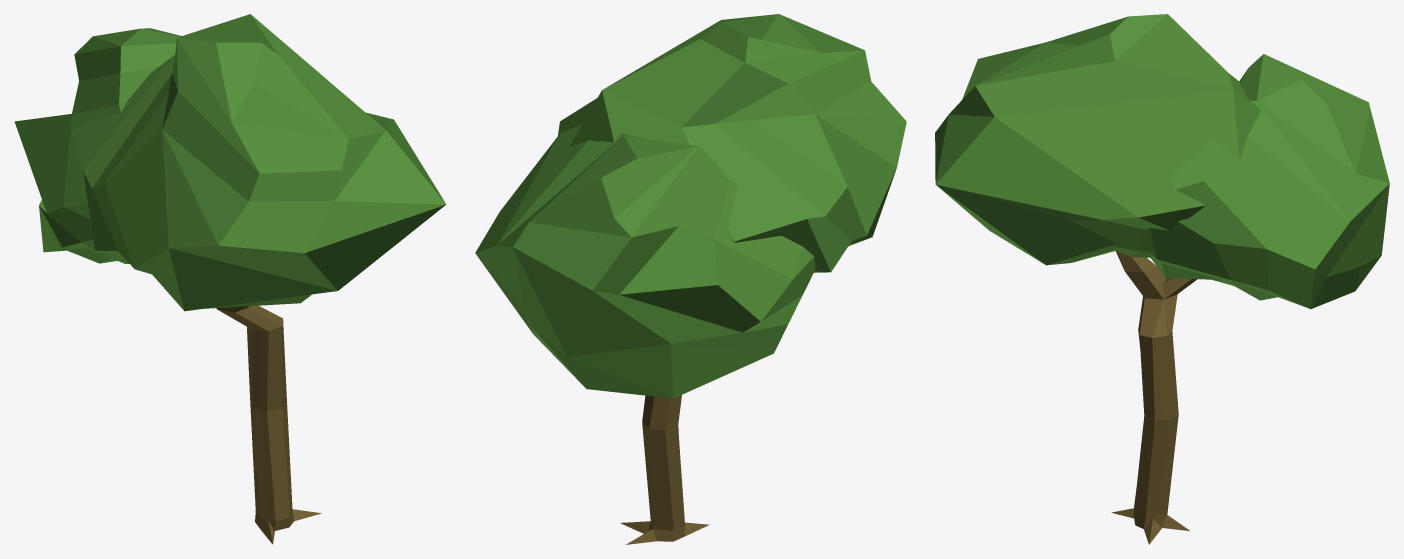
The model's file is SavannahTree.fbx.
3 renders of one model, left to right at view 1: azimuth 30°, elevation 25°; view 2: azimuth 150°, elevation 25°; view 3: azimuth 270°, elevation 25°, orthographic. The views are drawn at different scales.
Parts seen in each view (by area): view 1: Savannah; view 2: Savannah; view 3: Savannah.
Part boxes in pixels (x1,y1,x2,y2): Savannah: (14, 14, 446, 544); Savannah: (475, 14, 906, 544); Savannah: (935, 14, 1389, 544).
Bounding box in the file's own units: 408 × 685 × 595.
